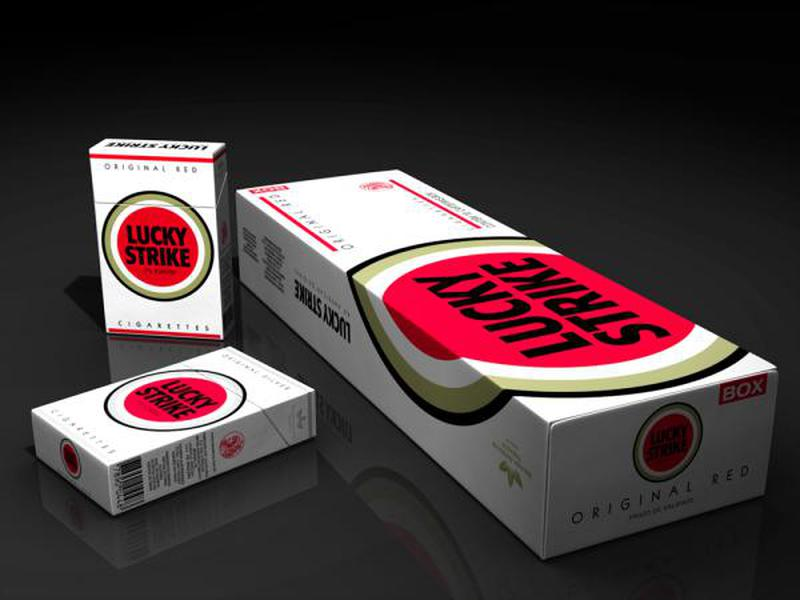lucky_strike_red: (98, 151, 224, 334), (80, 367, 272, 462)
